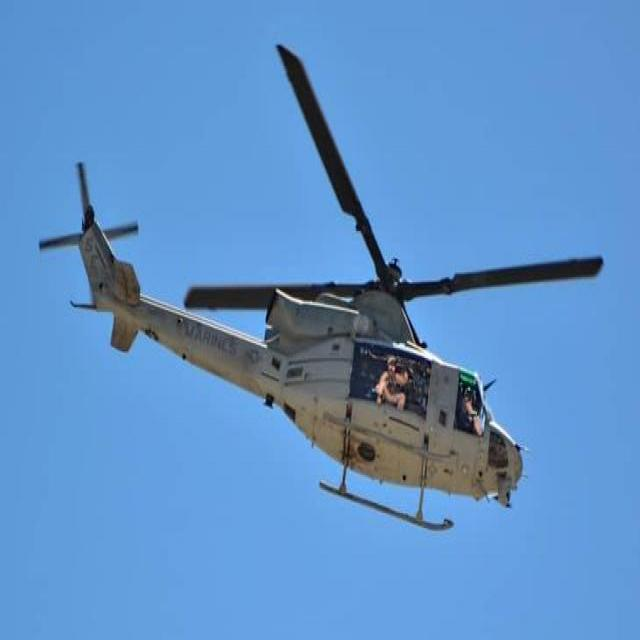MIL_HELO: (31, 37, 606, 545)
